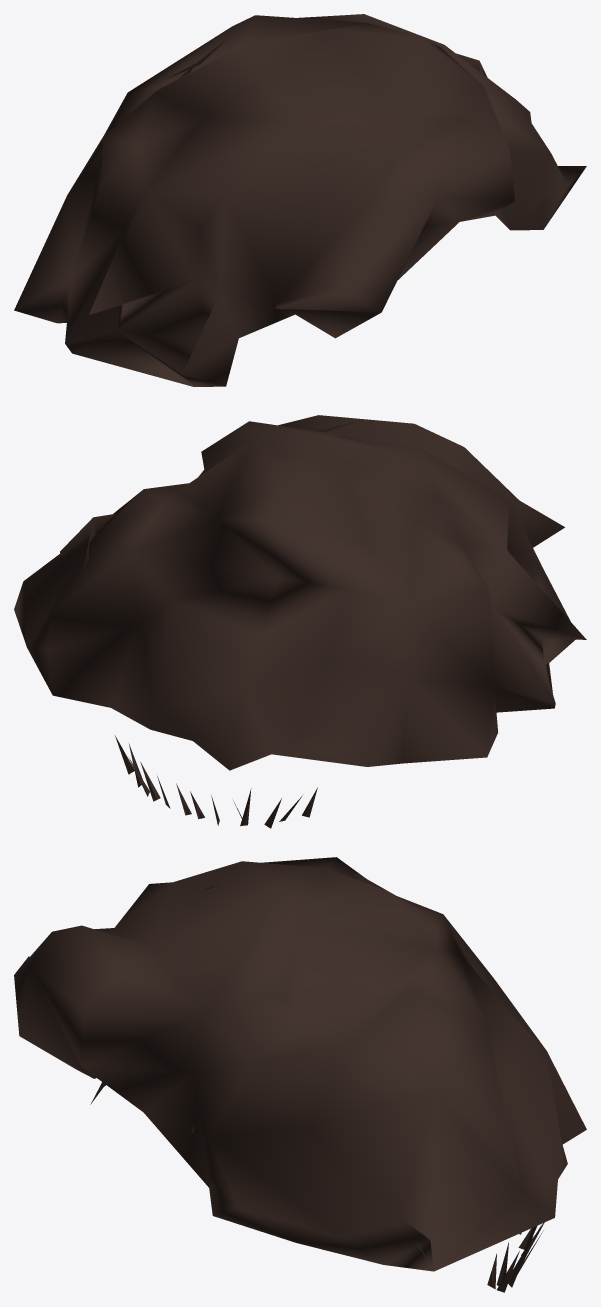
File: waves.glb
The picture shows the model from 3 angles, top to bottom: view 1: azimuth 30°, elevation 25°; view 2: azimuth 150°, elevation 25°; view 3: azimuth 270°, elevation 25°; orthographic projection. The views are drawn at different scales.
Parts seen in each view (by area): view 1: Hair; view 2: Hair, HairPulledRootStrands; view 3: Hair, HairPulledRootStrands.
Boxes of the visible parts, x1,y1,x2,y2 form: Hair: (14,14,586,386); Hair: (14,415,586,770); HairPulledRootStrands: (115,735,317,828); Hair: (14,857,586,1271); HairPulledRootStrands: (187,1116,544,1292).
Bounding box in the file's own units: 0.6137 × 0.38 × 0.527.
